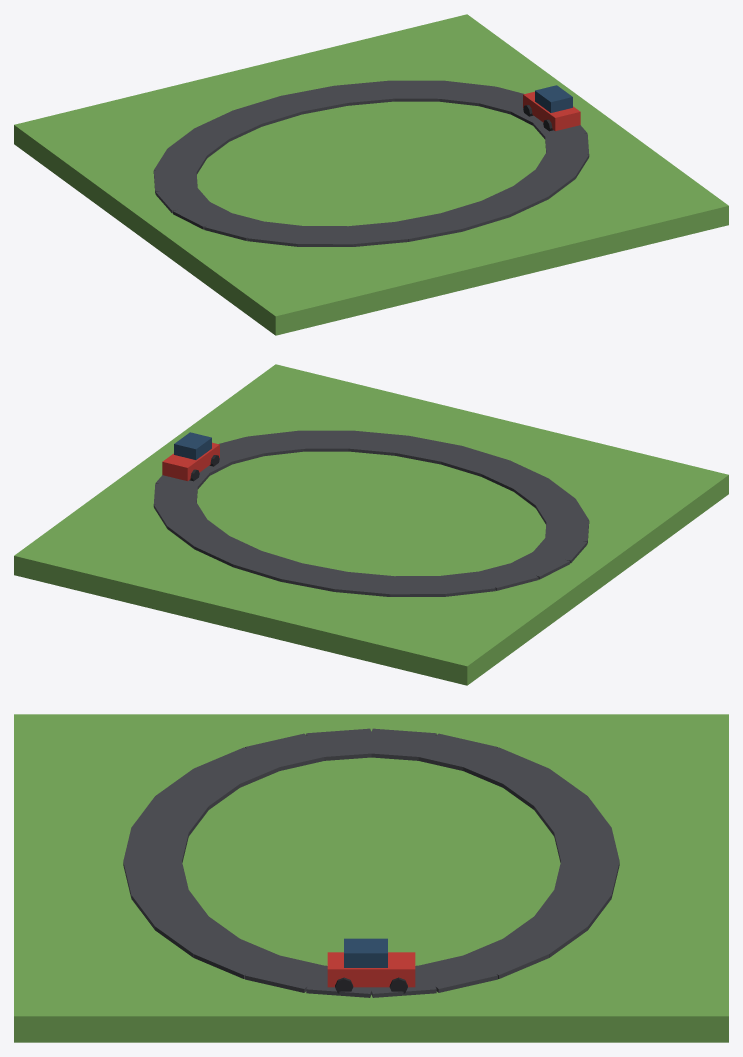
The model's file is auto_special_1.glb.
3 renders of one model, top to bottom at view 1: azimuth 30°, elevation 25°; view 2: azimuth 150°, elevation 25°; view 3: azimuth 270°, elevation 25°, orthographic. The views are drawn at different scales.
Visible parts, largest first — view 1: auto_special_1; view 2: auto_special_1; view 3: auto_special_1.
Boxes of the visible parts, box(x1,y1,x2,y2) form: auto_special_1: box(14, 14, 728, 335); auto_special_1: box(14, 364, 728, 685); auto_special_1: box(14, 714, 728, 1042).
Size of the model in its own units: 1.96 by 0.2 by 1.96.
